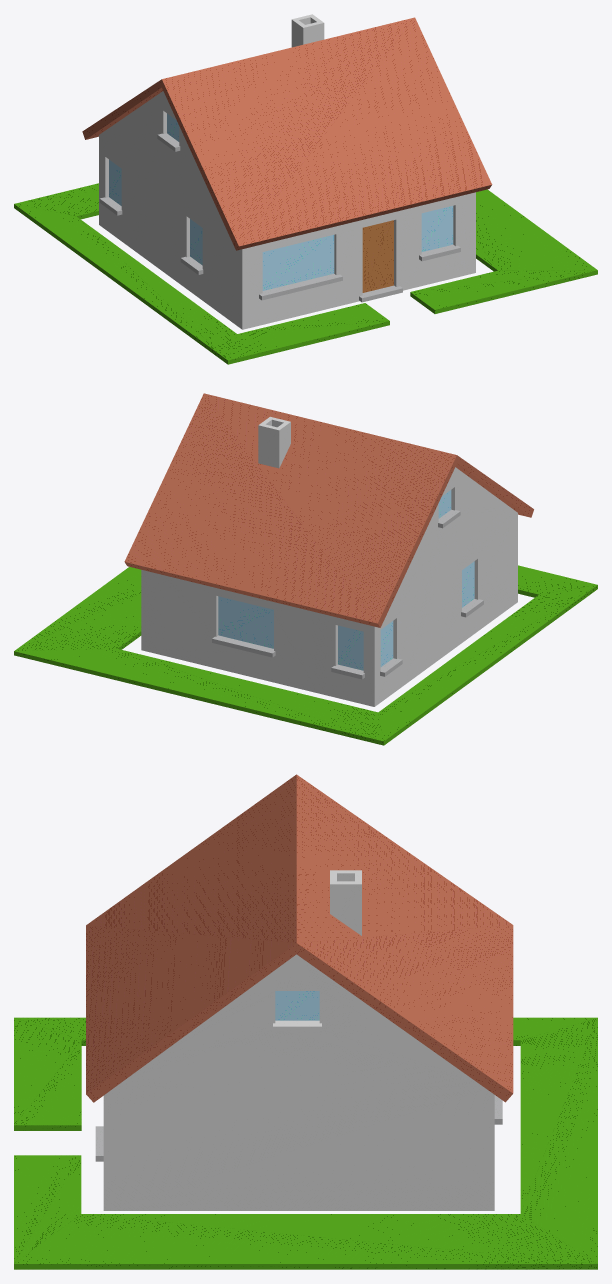
The model's file is house2.fbx.
3 renders of one model, top to bottom at view 1: azimuth 30°, elevation 25°; view 2: azimuth 150°, elevation 25°; view 3: azimuth 270°, elevation 25°, orthographic. The views are drawn at different scales.
Visible parts, largest first — view 1: house-002; view 2: house-002; view 3: house-002.
Boxes of the visible parts, box(x1,y1,x2,y2) form: house-002: box(14, 14, 597, 364); house-002: box(14, 393, 597, 745); house-002: box(14, 774, 597, 1269).
Bounding box in the file's own units: 940 × 500 × 942.
1 material, 1 textured.
